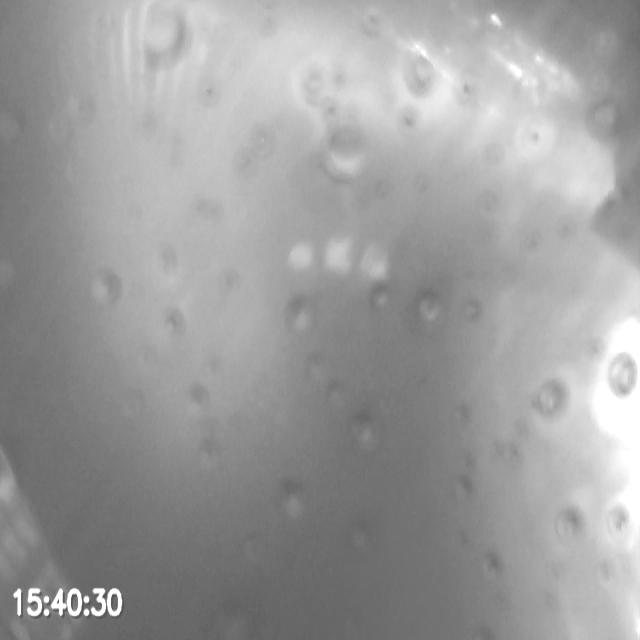white-dots: (286, 232, 389, 281)
